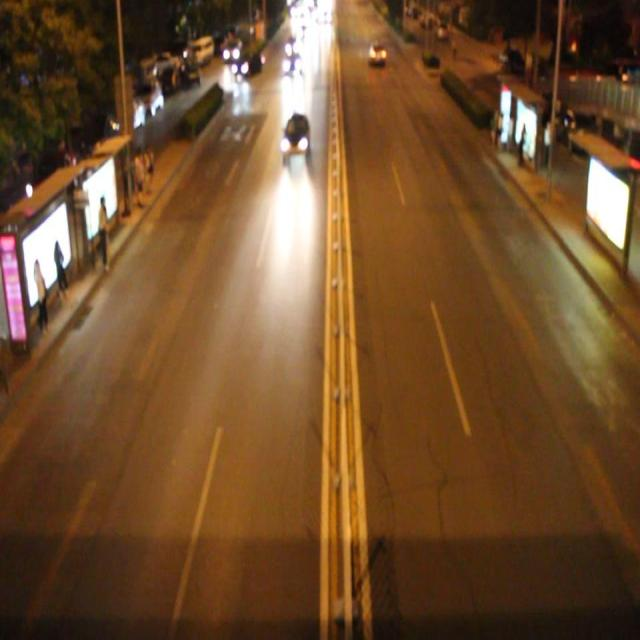car: (280, 108, 310, 156)
